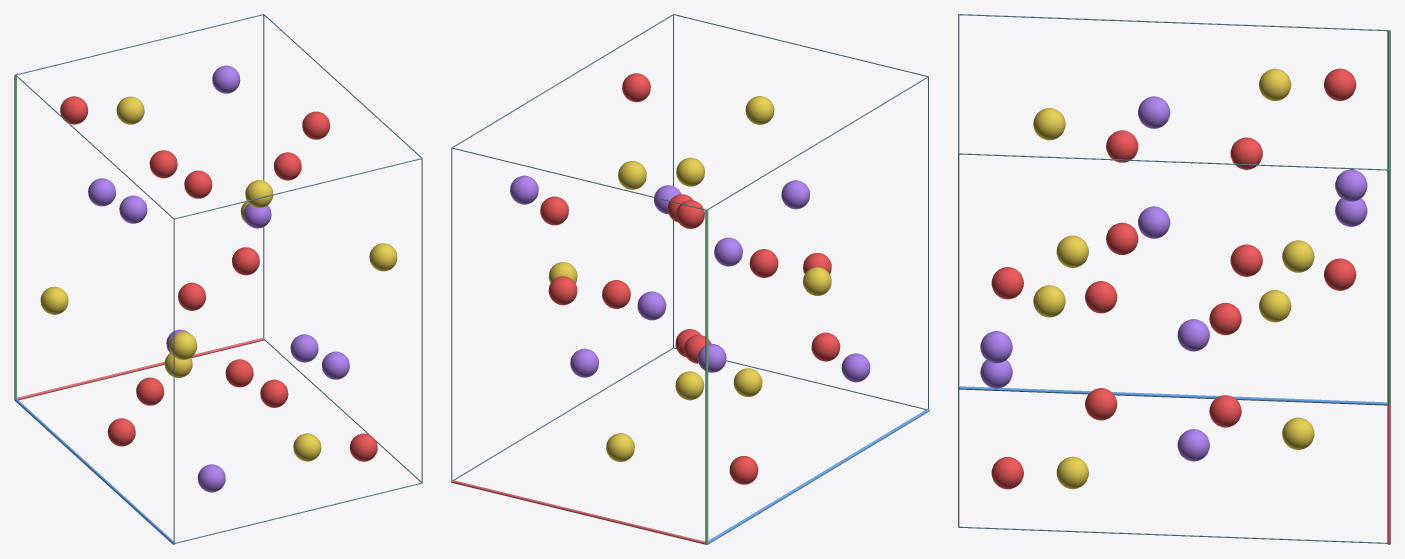
Rendered from cod-2310480.glb.
The picture shows the model from 3 angles, left to right: view 1: azimuth 30°, elevation 25°; view 2: azimuth 150°, elevation 25°; view 3: azimuth 270°, elevation 25°; orthographic projection. The views are drawn at different scales.
Visible parts, largest first — view 1: Ô mạng và các trục a, b, c, O2 · O · 1 (×4), Na1 · Na · 1 (×4), O3 · O · 1 (×4), O1 · O · 1 (×4), S2 · S · 1 (×4), S1 · S · 1 (×3), Na2 · Na · 1 (×3); view 2: Ô mạng và các trục a, b, c, Na1 · Na · 1 (×4), O1 · O · 1 (×4), S2 · S · 1 (×4), S1 · S · 1 (×3), Na2 · Na · 1 (×3), O2 · O · 1 (×2), O3 · O · 1 (×2); view 3: Ô mạng và các trục a, b, c, S2 · S · 1 (×4), Na2 · Na · 1 (×4), O3 · O · 1 (×4), O1 · O · 1 (×4), S1 · S · 1 (×4), O2 · O · 1 (×4), Na1 · Na · 1 (×4).
Part boxes in pixels (box(x1,y1,x2,y2)): Ô mạng và các trục a, b, c: box(14, 14, 422, 544); O2 · O · 1 (×4): box(136, 150, 301, 407); Na1 · Na · 1 (×4): box(88, 65, 349, 492); O3 · O · 1 (×4): box(60, 96, 377, 461); O1 · O · 1 (×4): box(107, 111, 330, 446); S2 · S · 1 (×4): box(40, 180, 397, 377); S1 · S · 1 (×3): box(116, 96, 321, 461); Na2 · Na · 1 (×3): box(119, 195, 318, 362); Ô mạng và các trục a, b, c: box(451, 14, 929, 544); Na1 · Na · 1 (×4): box(510, 175, 870, 382); O1 · O · 1 (×4): box(602, 73, 778, 484); S2 · S · 1 (×4): box(606, 96, 774, 461); S1 · S · 1 (×3): box(675, 157, 831, 400); Na2 · Na · 1 (×3): box(570, 180, 810, 377); O2 · O · 1 (×2): box(540, 196, 840, 361); O3 · O · 1 (×2): box(548, 200, 704, 305); Ô mạng và các trục a, b, c: box(958, 14, 1390, 544); S2 · S · 1 (×4): box(1033, 108, 1314, 449); Na2 · Na · 1 (×4): box(1138, 96, 1209, 461); O3 · O · 1 (×4): box(991, 68, 1356, 489); O1 · O · 1 (×4): box(1106, 130, 1241, 427); S1 · S · 1 (×4): box(1056, 68, 1291, 489); O2 · O · 1 (×4): box(1085, 137, 1262, 420); Na1 · Na · 1 (×4): box(980, 169, 1367, 388).
Size of the model in its own units: 7.3 by 8.22 by 8.53.
